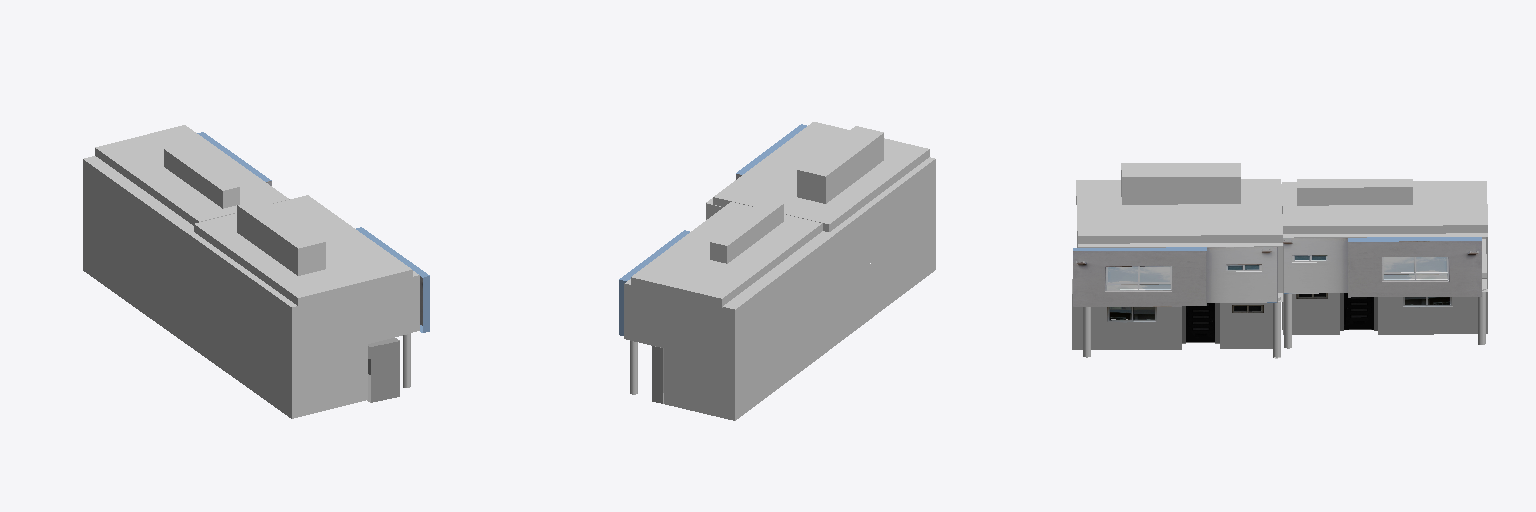
The picture shows the model from 3 angles: view 1: azimuth 30°, elevation 25°; view 2: azimuth 150°, elevation 25°; view 3: azimuth 270°, elevation 25°; orthographic projection.
Parts seen in each view (by area): view 1: Plano.013_Plano.017, Plano.003_Plano.006, Plano.005_Plano.023; view 2: Plano.013_Plano.017, Plano.002_Plano.022, Plano; view 3: Plano.013_Plano.017, Plano.005_Plano.023, Plano.002_Plano.022, Plano.003_Plano.006, Plano.
Boxes of the visible parts, <box> form: Plano.013_Plano.017: <box>83,125,419,418</box>; Plano.003_Plano.006: <box>367,338,399,402</box>; Plano.005_Plano.023: <box>356,227,429,332</box>; Plano.013_Plano.017: <box>624,122,935,420</box>; Plano.002_Plano.022: <box>619,230,689,335</box>; Plano: <box>652,346,663,403</box>; Plano.013_Plano.017: <box>1076,163,1487,358</box>; Plano.005_Plano.023: <box>1073,247,1277,306</box>; Plano.002_Plano.022: <box>1283,237,1481,297</box>; Plano.003_Plano.006: <box>1072,279,1272,349</box>; Plano: <box>1282,273,1487,334</box>.
Size of the model in its own units: 15.85 by 16.02 by 40.6.
Materials: 5 (3 with a texture image).